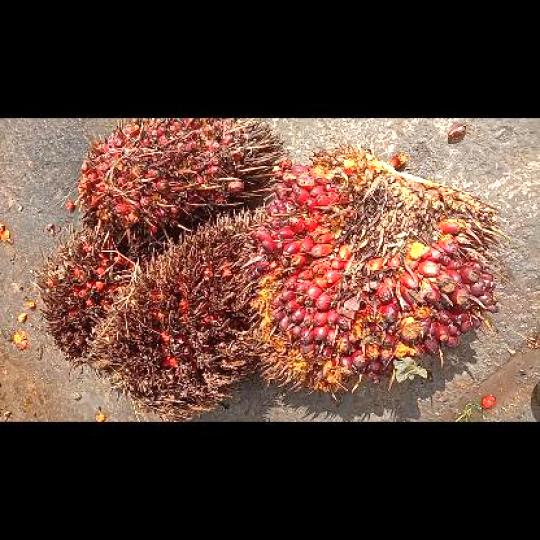masak: (232, 142, 513, 401), (75, 117, 284, 254)
terlalu masak: (86, 208, 267, 420), (29, 220, 153, 372)
